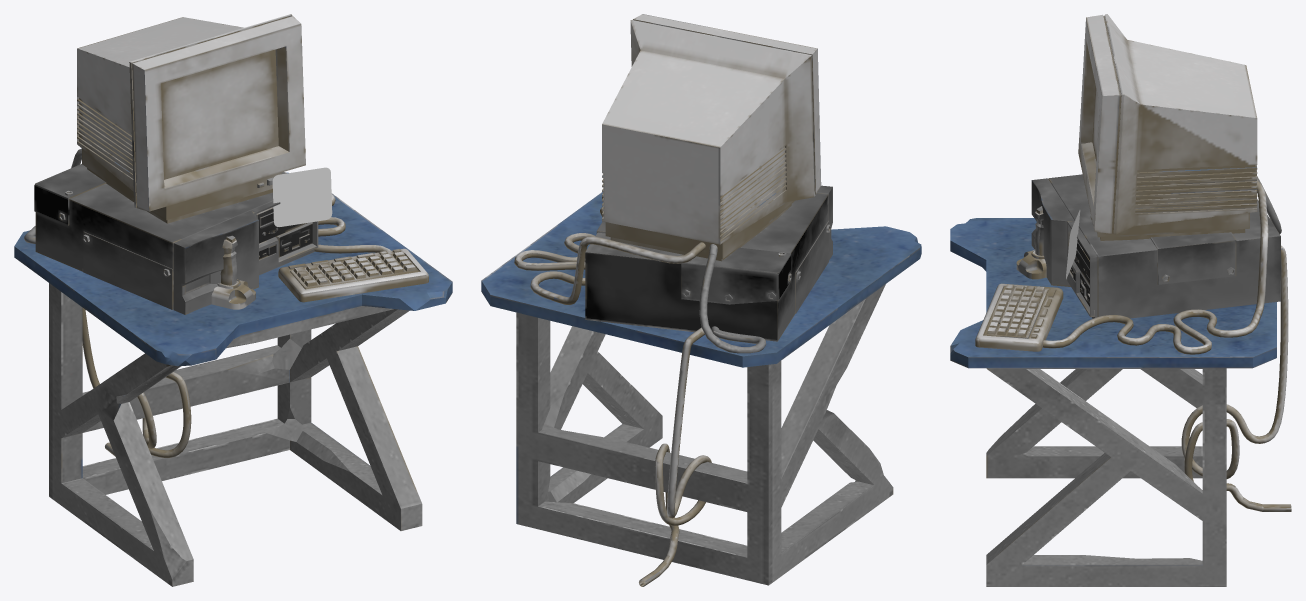
Rendered from table zapisi.fbx.
3 views of the same model, side by side, from view 1: azimuth 30°, elevation 25°; view 2: azimuth 150°, elevation 25°; view 3: azimuth 270°, elevation 25° (orthographic). The views are drawn at different scales.
Parts seen in each view (by area): view 1: Cube.019, Cube.017, Cube.032, Cube.028; view 2: Cube.019; view 3: Cube.019, Cube.032.
Part boxes in pixels (x1,y1,x2,y2): Cube.019: (14, 14, 452, 586); Cube.017: (272, 167, 332, 226); Cube.032: (211, 279, 255, 309); Cube.028: (220, 235, 237, 285); Cube.019: (481, 14, 921, 586); Cube.019: (950, 14, 1291, 586); Cube.032: (1016, 249, 1046, 279).
Bounding box in the file's own units: 343 × 531 × 355.
